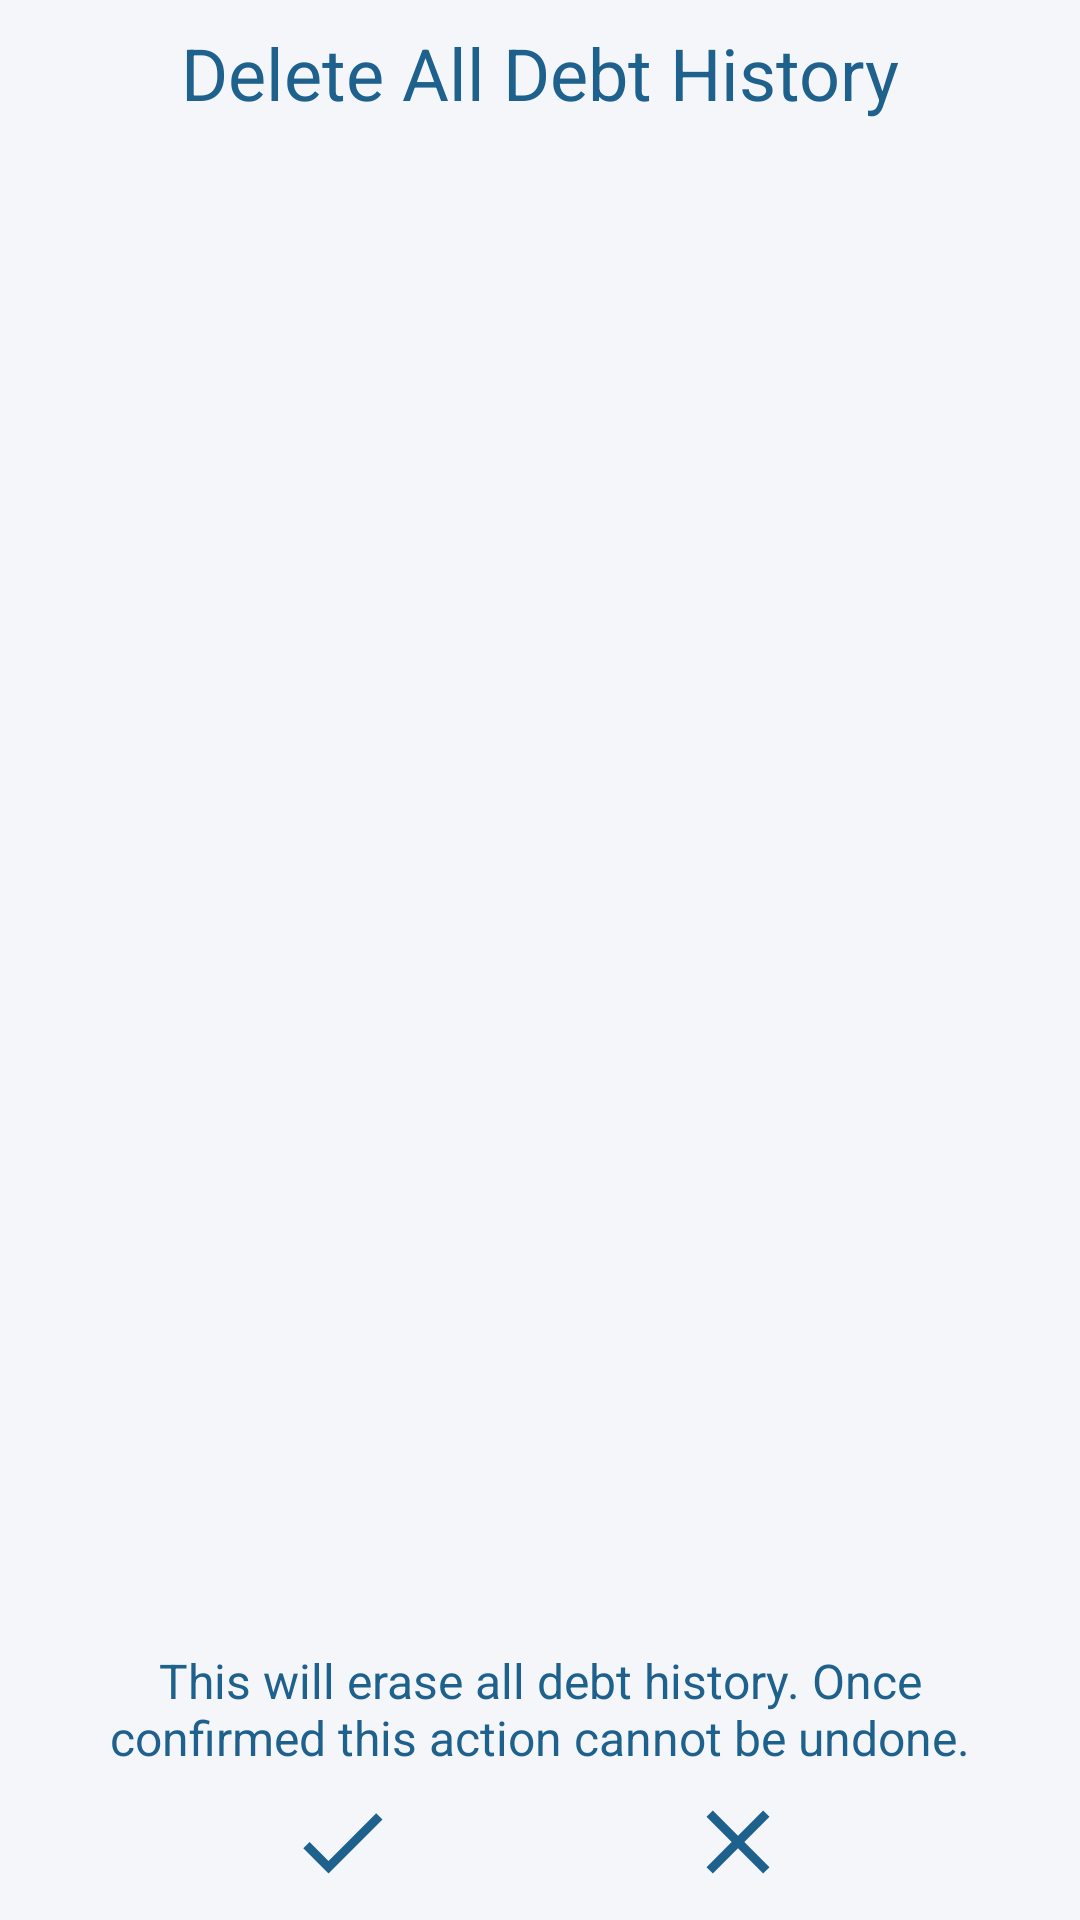

Named icons in this screenshot (1080 x 1920) and their centers, (x=x, y=y):
Cancel button: (x=738, y=1842)
